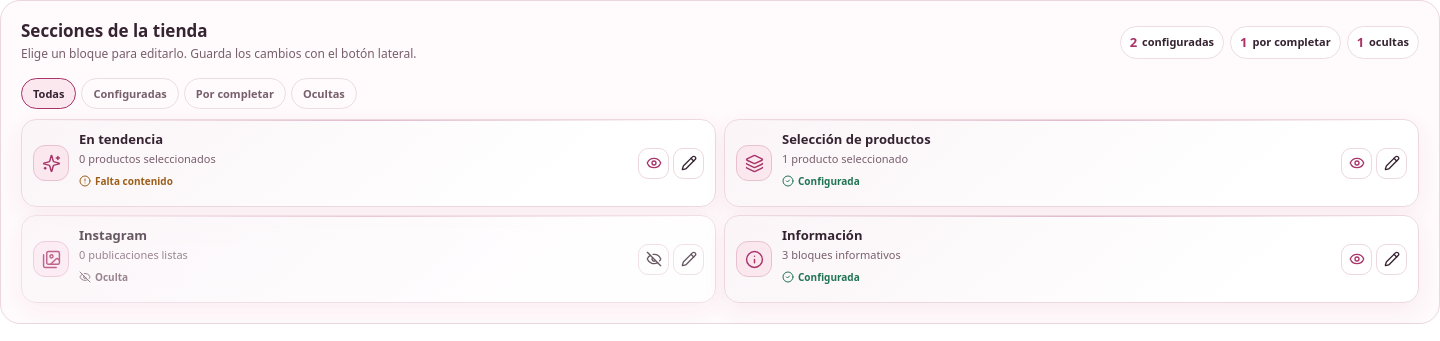
vista general de Secciones › permite ocultar una sección desde la lista y pasa el cambio al guardado global
Click the switch named "Mostrar Selección de productos en la tienda" at (1356,163), box [1341, 148, 1372, 179]
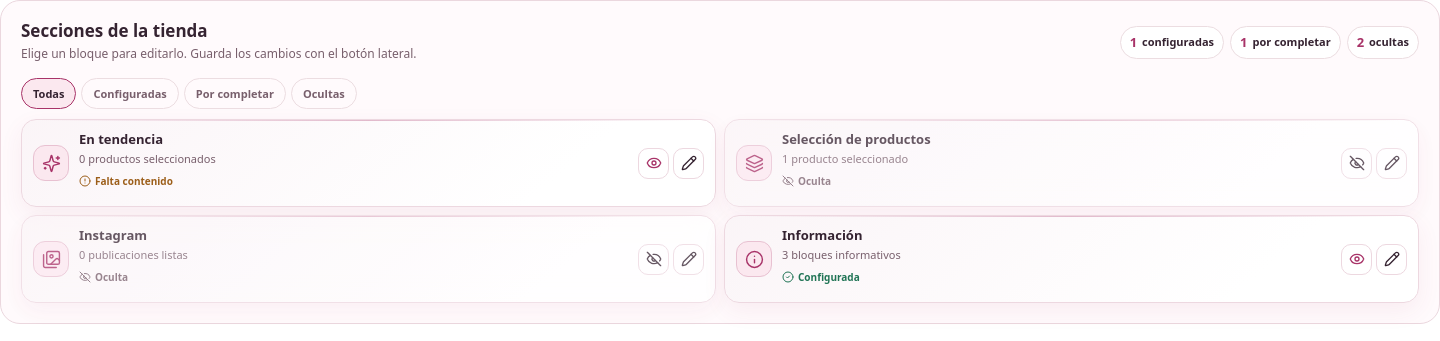
Result: the text "Oculta" below "1 producto seleccionado" is shown at [798, 174, 831, 188]
